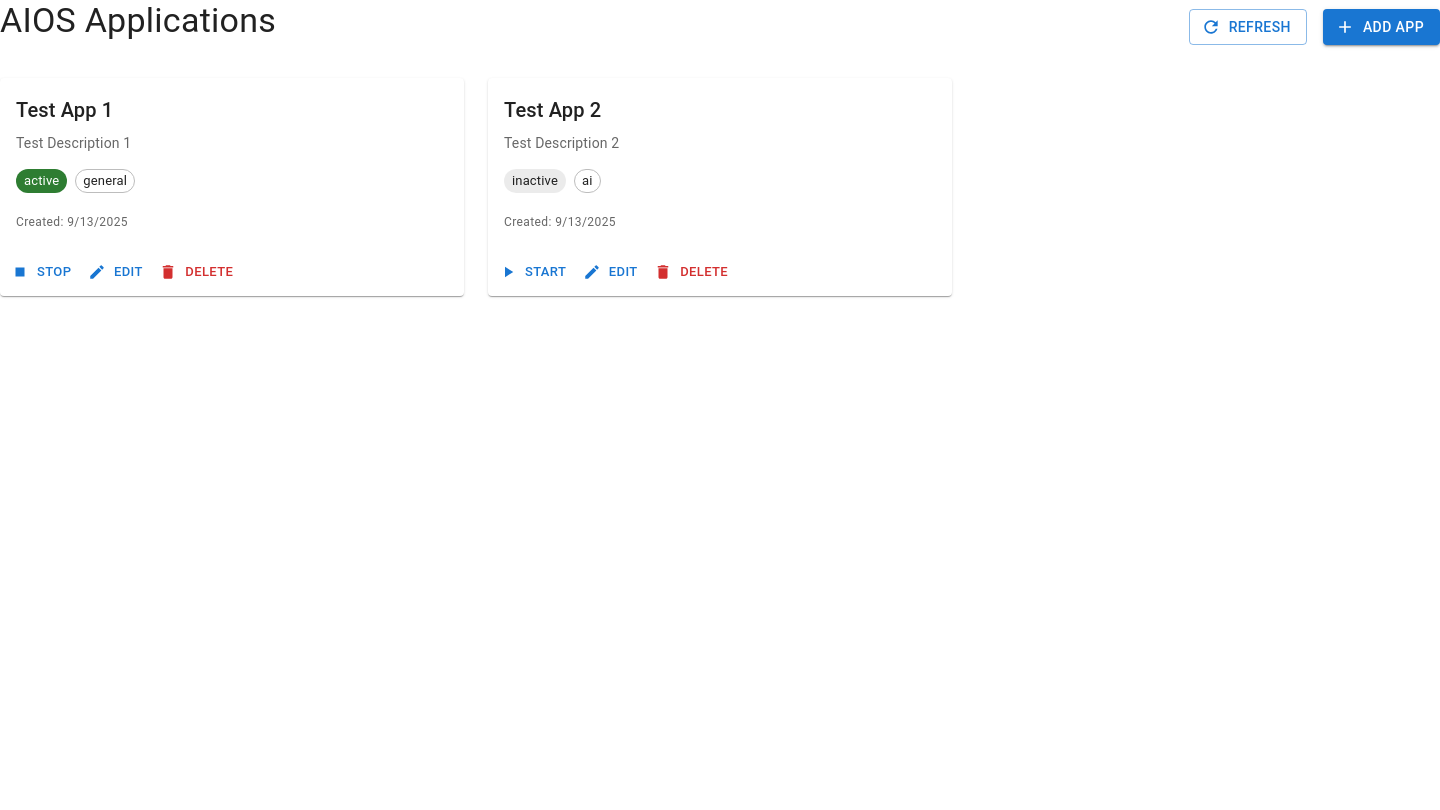
Apps Component › opens create app dialog
This screenshot has width=1440, height=810.
Click the button "Add App": click(1381, 27) [1323,9,1439,45]
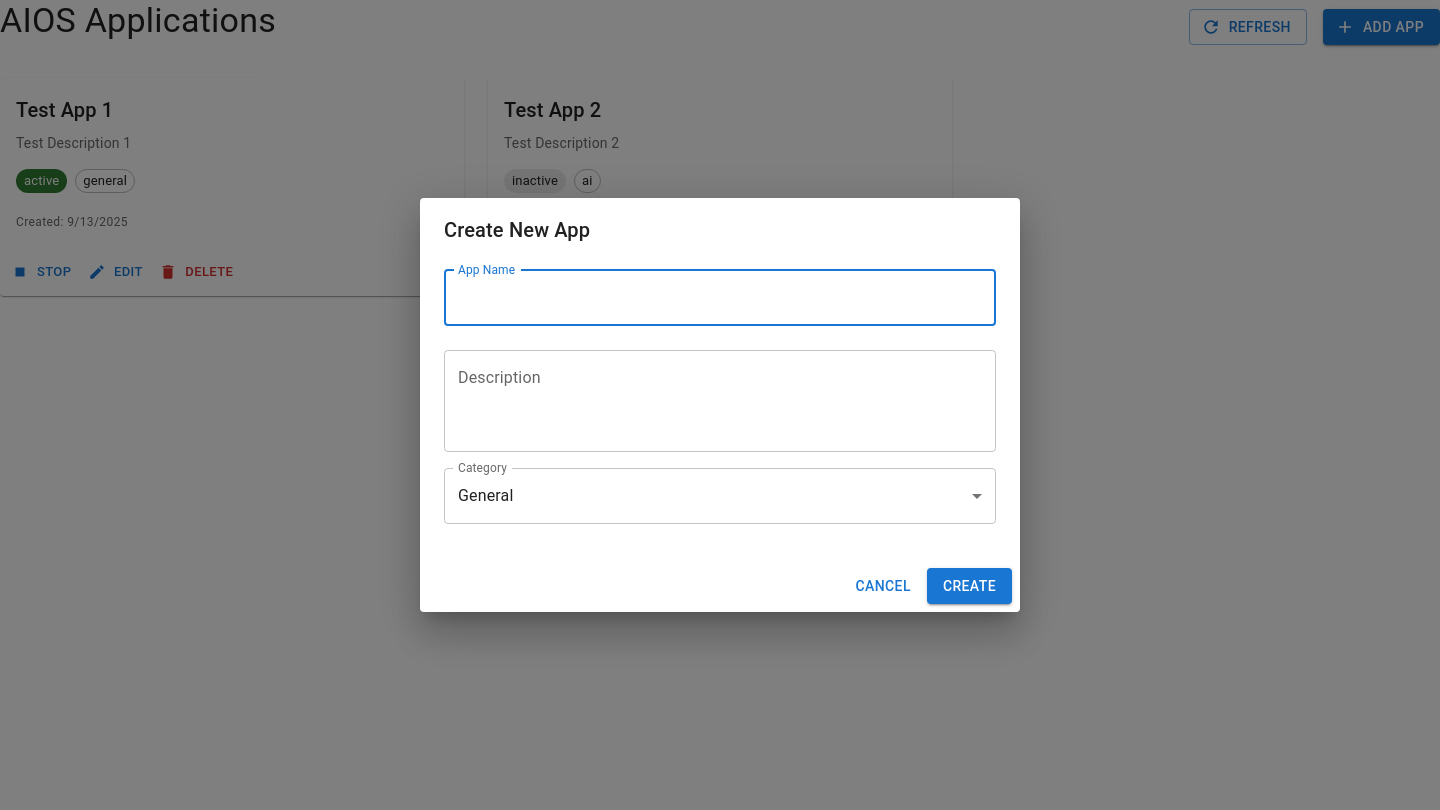
Now the heading "Create New App" is shown, box [444,218,590,242]
Now the field labelled "App Name" is shown, box [444,270,996,326]
Now the text box labelled "Description" is shown, box [458,366,982,435]
